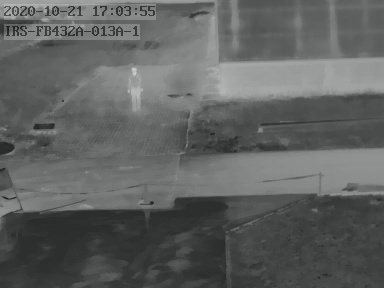person: (126, 64, 143, 107)
